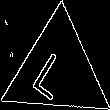L_NE: (33, 41, 81, 100)
